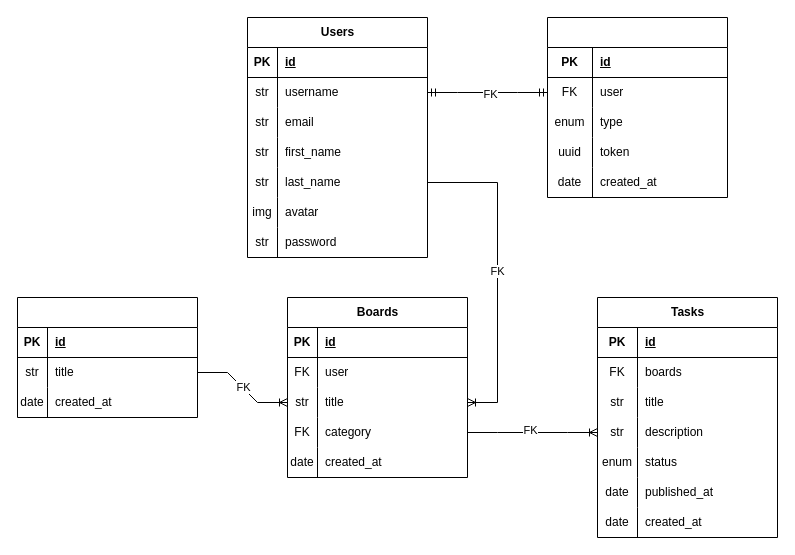
The diagram is 795 pixels wide and 555 high, and some of its shapes have lost their labels. The shapes that lost their labels are listed below. From the top down, each one's box as (x1, y1, x2, y2) in pixels, then its label:
(546, 16, 728, 198): Tokens
(16, 296, 198, 418): Categories
